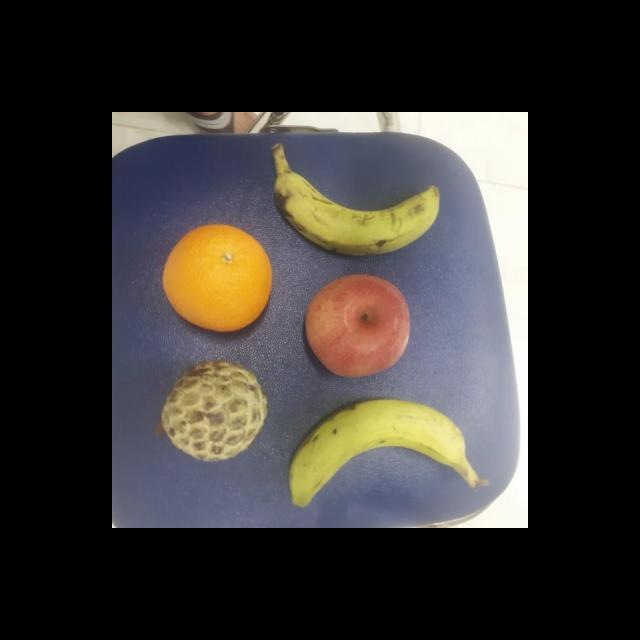Sakya fruit: (160, 361, 271, 464)
apple: (305, 272, 415, 381)
banana: (288, 396, 477, 507), (271, 162, 442, 260)
orange: (159, 222, 276, 334)
